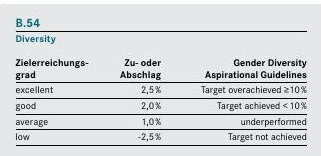table: (0, 0, 321, 156)
